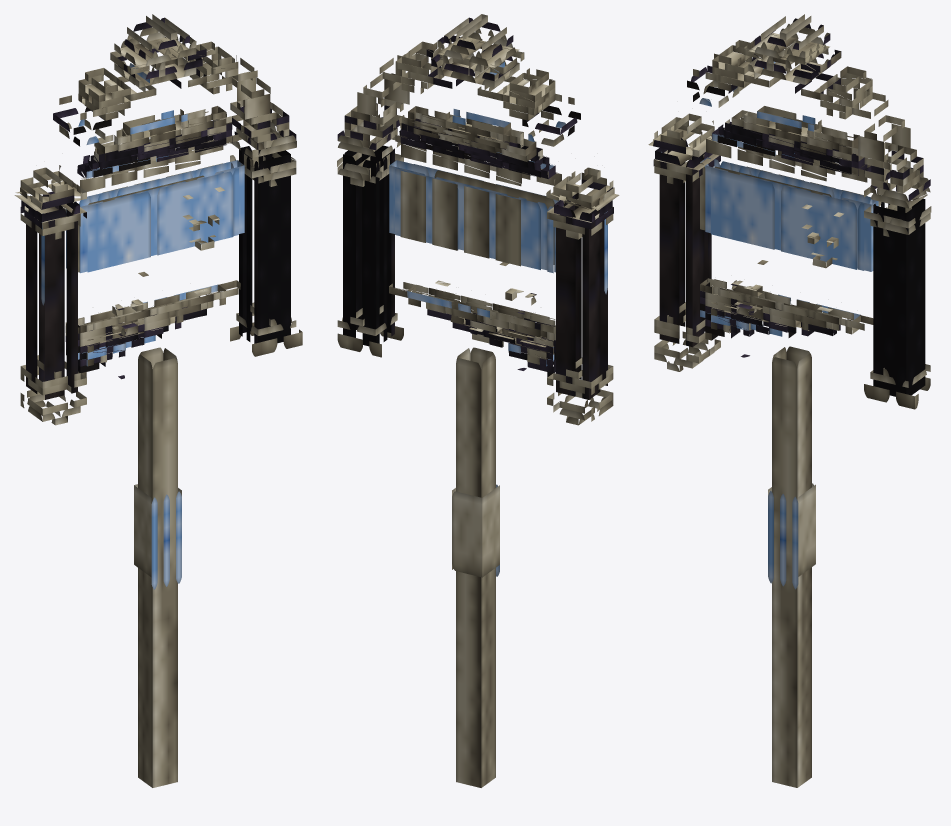
File: bone_gate.obj
3 renders of one model, left to right at view 1: azimuth 30°, elevation 25°; view 2: azimuth 150°, elevation 25°; view 3: azimuth 330°, elevation 25°, orthographic.
Visible parts, largest first — view 1: lit, fire; view 2: lit, fire; view 3: lit, fire.
Part boxes in pixels (x1,y1,x2,y2): lit: [14, 14, 302, 787]; fire: [74, 36, 238, 377]; lit: [337, 14, 619, 787]; fire: [395, 39, 559, 377]; lit: [648, 14, 931, 787]; fire: [705, 39, 872, 340].
Bounding box in the file's own units: 1.31 × 3.66 × 0.225.
